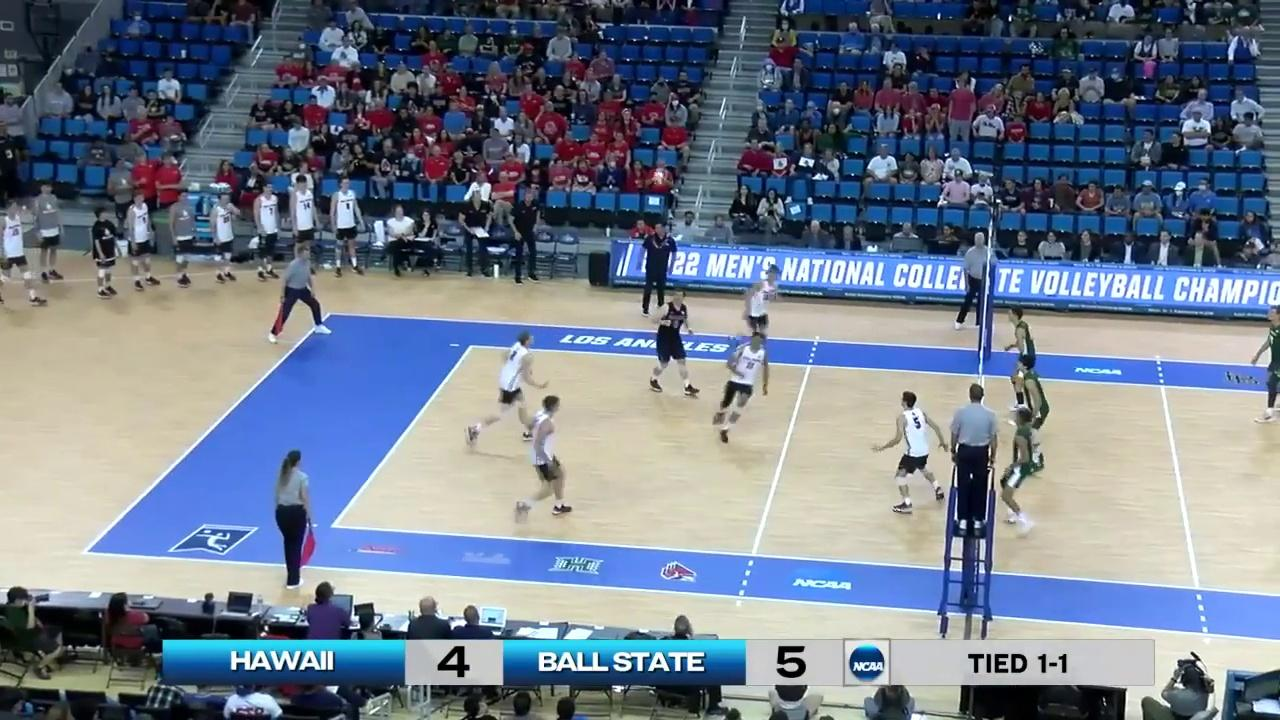player: (467, 332, 541, 447), (873, 390, 939, 510), (712, 331, 768, 445), (520, 397, 572, 517), (649, 289, 698, 394), (1000, 409, 1038, 538), (1012, 354, 1049, 475), (738, 264, 784, 359), (1004, 305, 1043, 413), (1252, 304, 1280, 422)
refree: (946, 384, 1002, 533), (269, 246, 332, 342), (272, 452, 315, 584), (955, 232, 993, 331)
